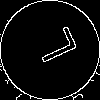L: (25, 25, 78, 70)
